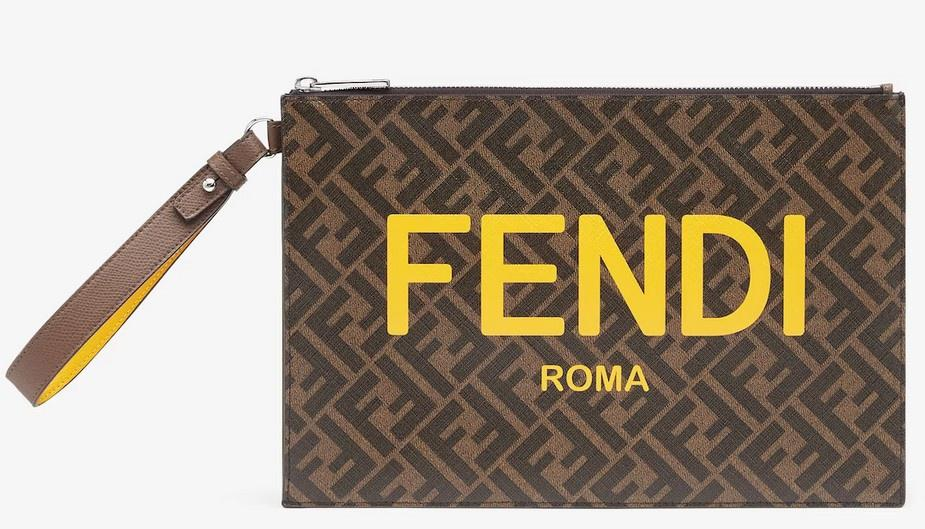FENDI: (387, 213, 806, 336)
